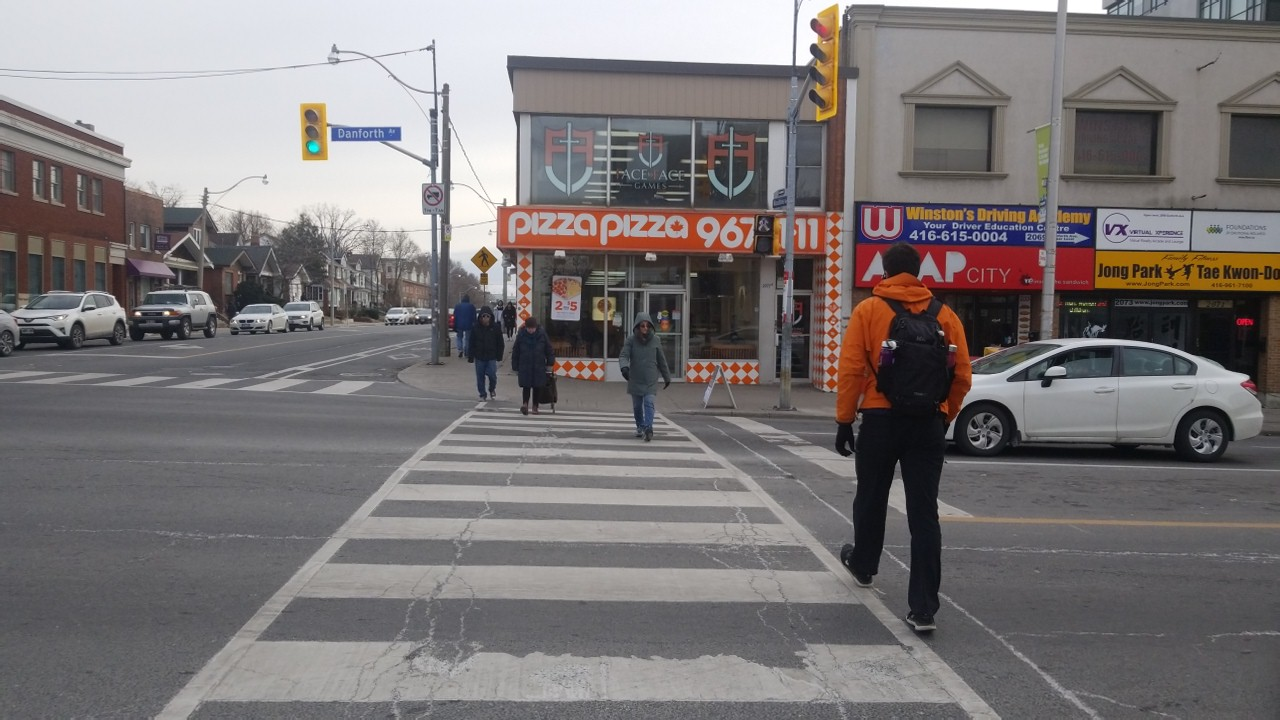light: (748, 210, 777, 258)
